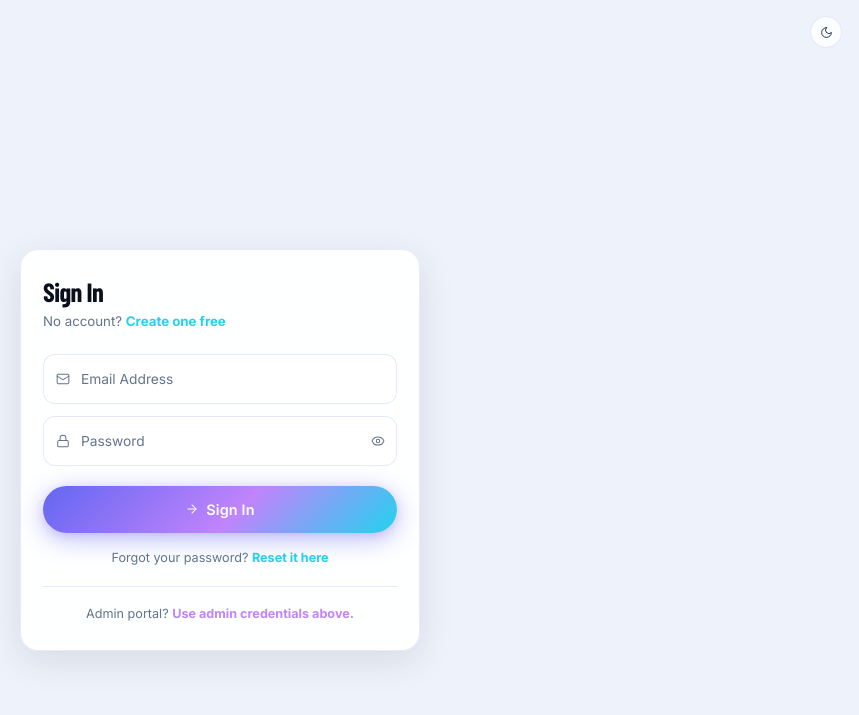
Scenario: LoginForm › does NOT navigate on login failure
Step 1. Type "x@x.com" into the field with id "login-email" → (220, 378), box [43,354,397,404]
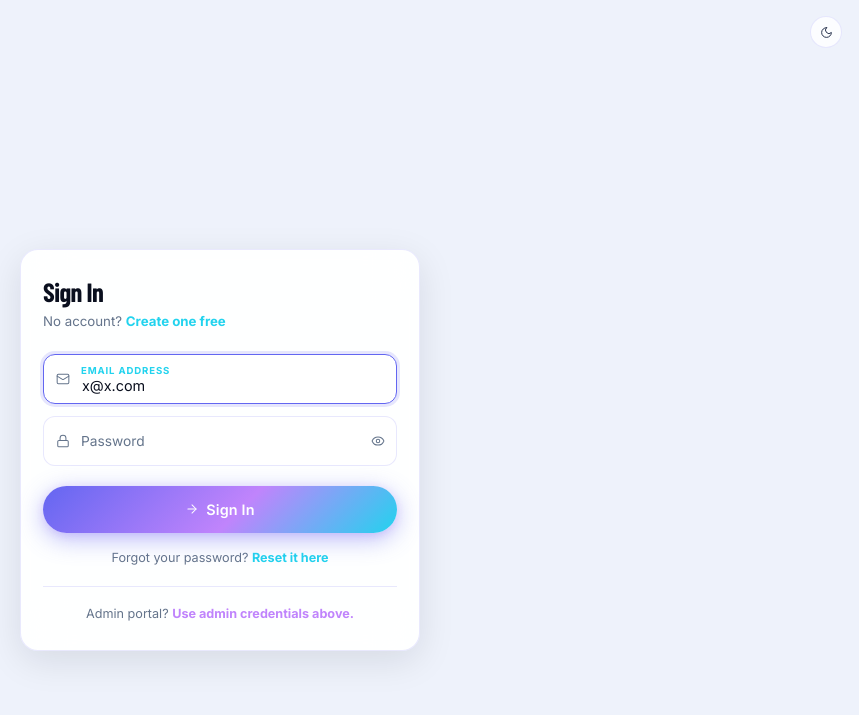
Step 2. Type "pass1234" into the password field with id "login-pw" → (220, 440), box [43,416,397,466]
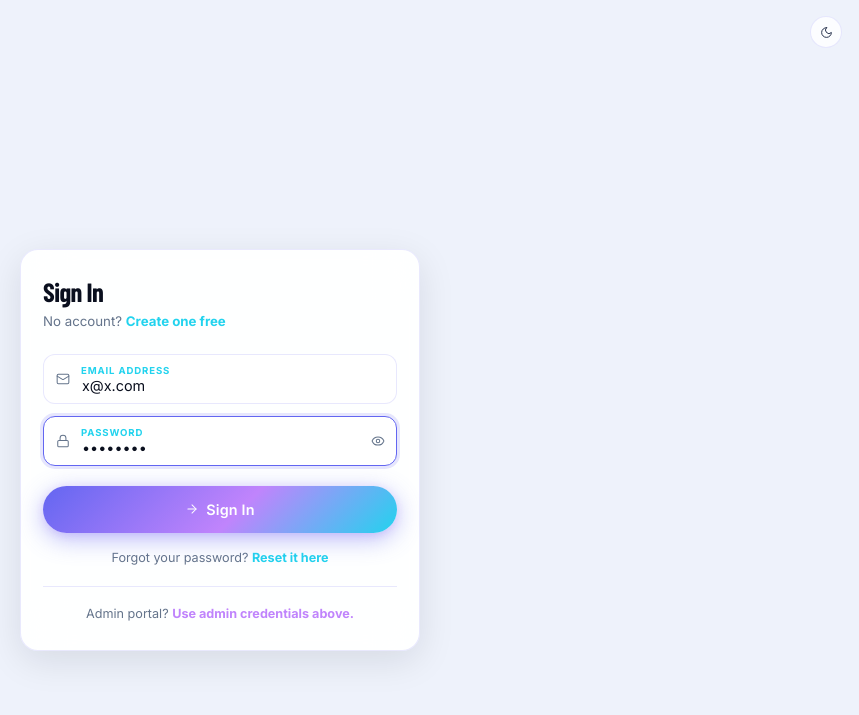
Step 3. Click the button "Sign In" → click(220, 509), box [43,486,397,533]
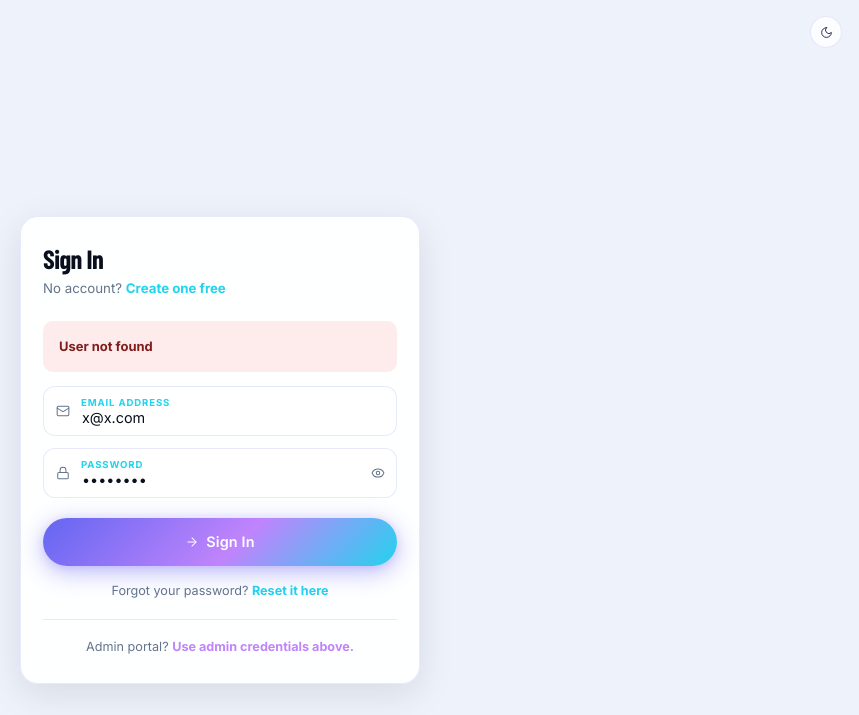
Expected: the text "User not found" is shown, [43,321,397,372]
